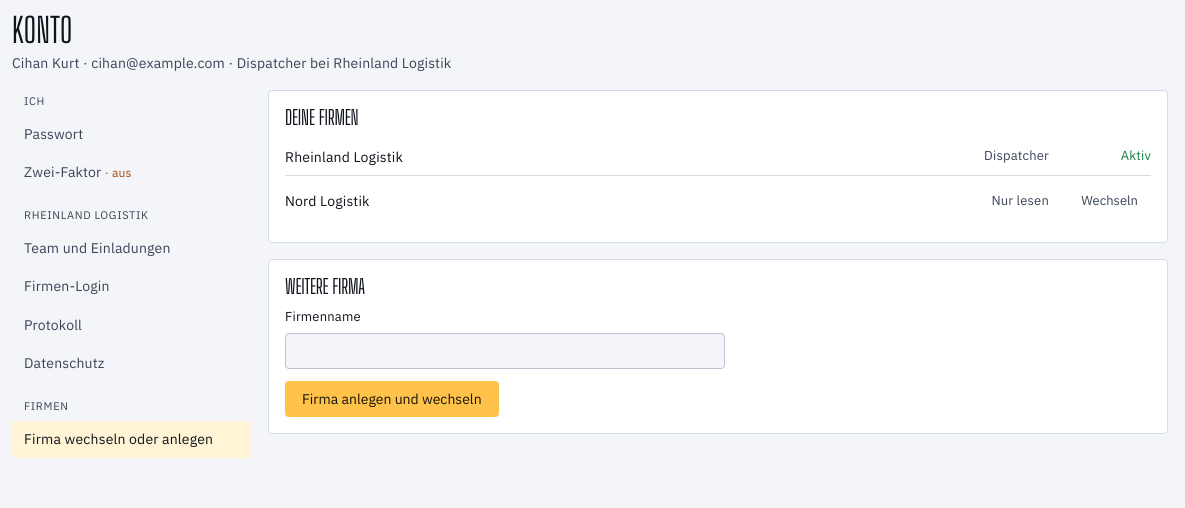
account page › switches to another company from the company section
Expected: the text "Aktiv" is shown, [1121,147,1151,166]
Click the button with aria-label "Zu Nord Logistik wechseln": (1110, 201) [1068,184,1151,218]
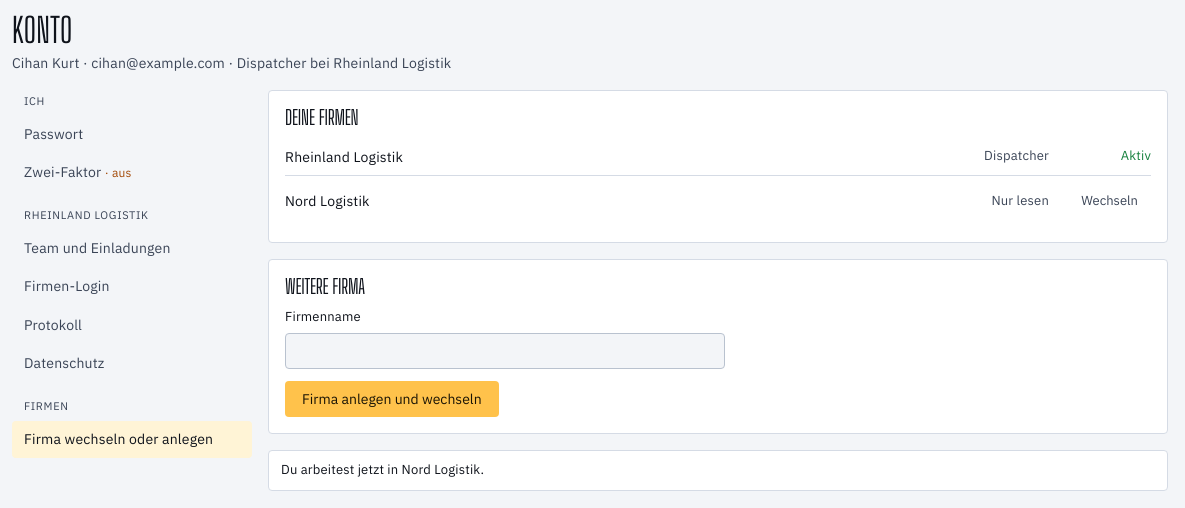
Now the text "Du arbeitest jetzt in Nord Logistik." is shown, box [268,450,1168,491]
